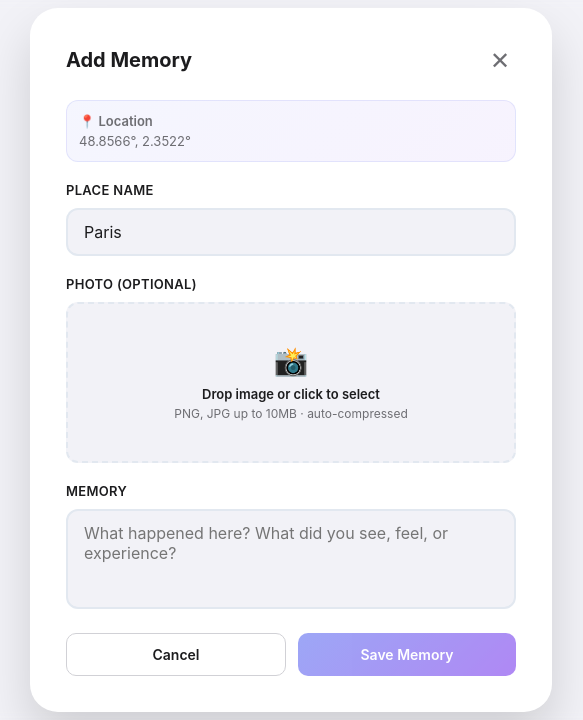
it: StepModal › Save Memory button is enabled after typing a note
Type "Saw the Eiffel Tower" into the text box with placeholder "What happened here? What did you see, feel, or experience?" at (291, 559), box [66, 509, 516, 609]
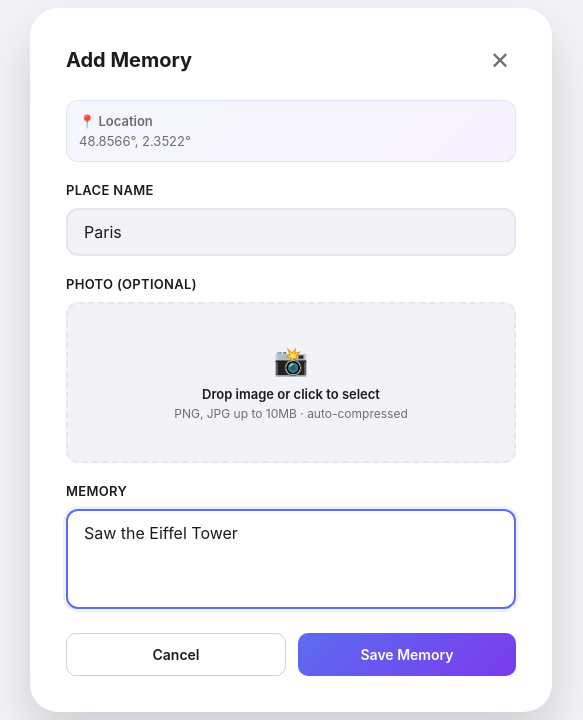
Now the button "Save Memory" is enabled, box [298, 633, 516, 676]
